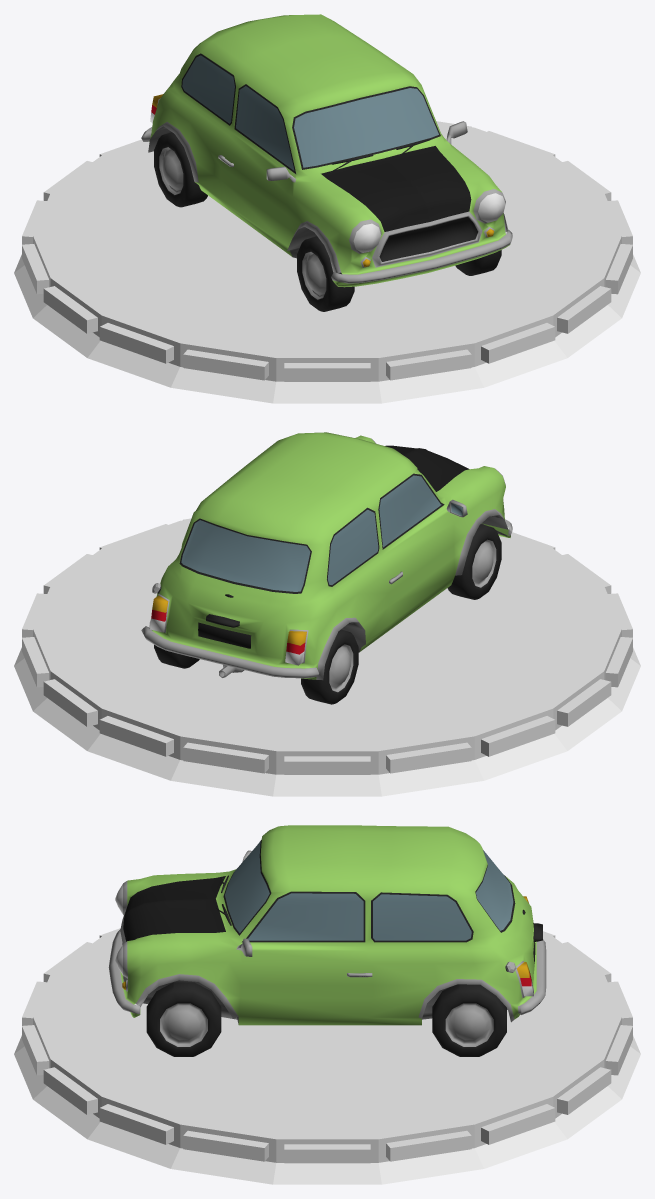
The model's file is mini.glb.
The picture shows the model from 3 angles, top to bottom: view 1: azimuth 30°, elevation 25°; view 2: azimuth 150°, elevation 25°; view 3: azimuth 270°, elevation 25°; orthographic projection.
Visible parts, largest first — view 1: Cylinder_Cylinder.001, Plane; view 2: Cylinder_Cylinder.001, Plane; view 3: Cylinder_Cylinder.001, Plane.
Part boxes in pixels (x1,y1,x2,y2): Cylinder_Cylinder.001: (14, 121, 640, 403); Plane: (141, 14, 512, 311); Cylinder_Cylinder.001: (14, 518, 640, 796); Plane: (141, 432, 512, 704); Cylinder_Cylinder.001: (14, 928, 640, 1184); Plane: (108, 825, 546, 1056).
Size of the model in its own units: 5.82 by 2.18 by 5.91.
